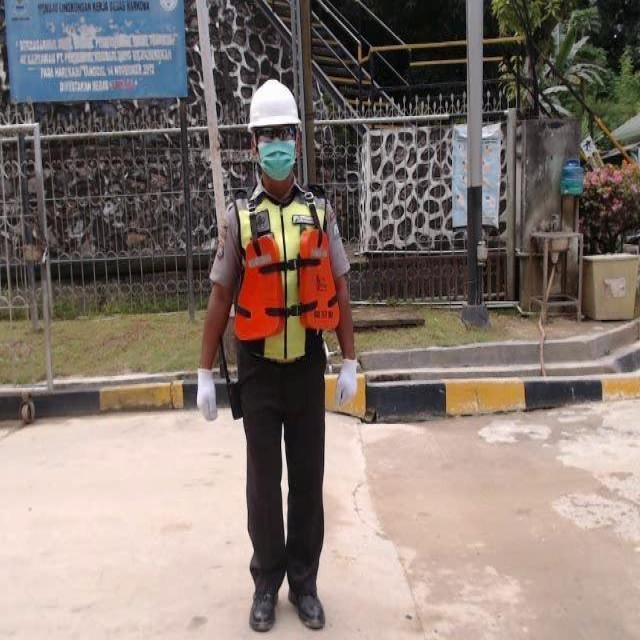Vest: (233, 227, 343, 340)
